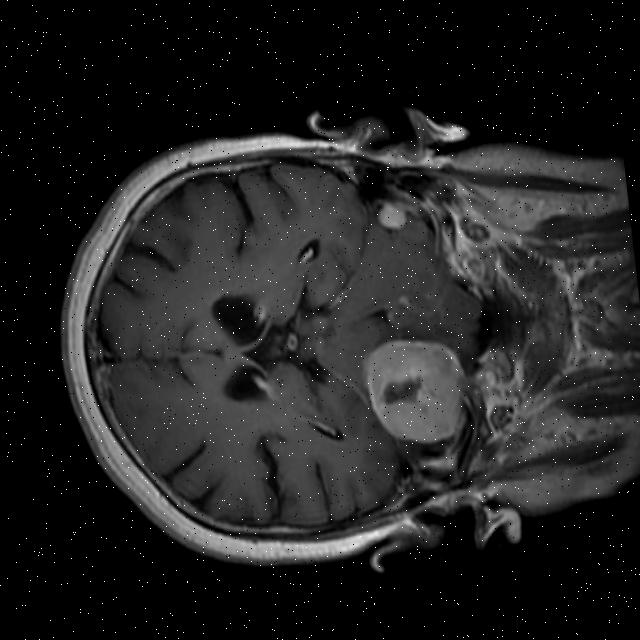Meningioma: (355, 327, 473, 452), (371, 195, 409, 235)
